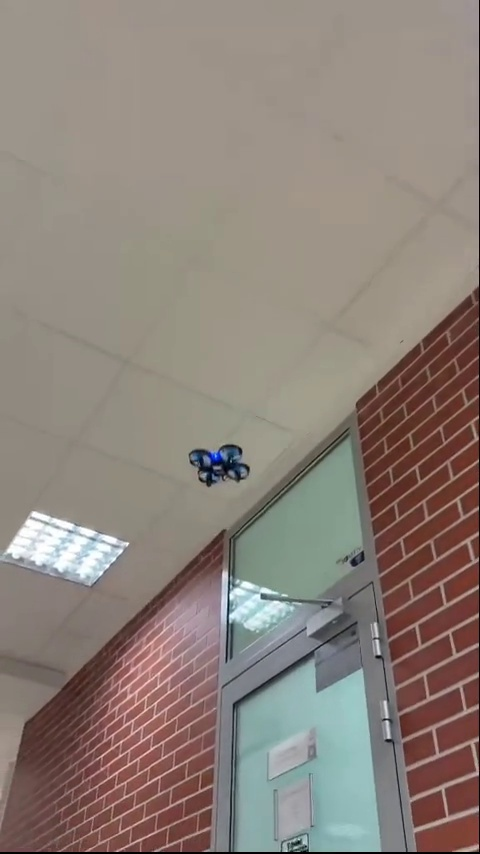drone: (189, 442, 253, 488)
